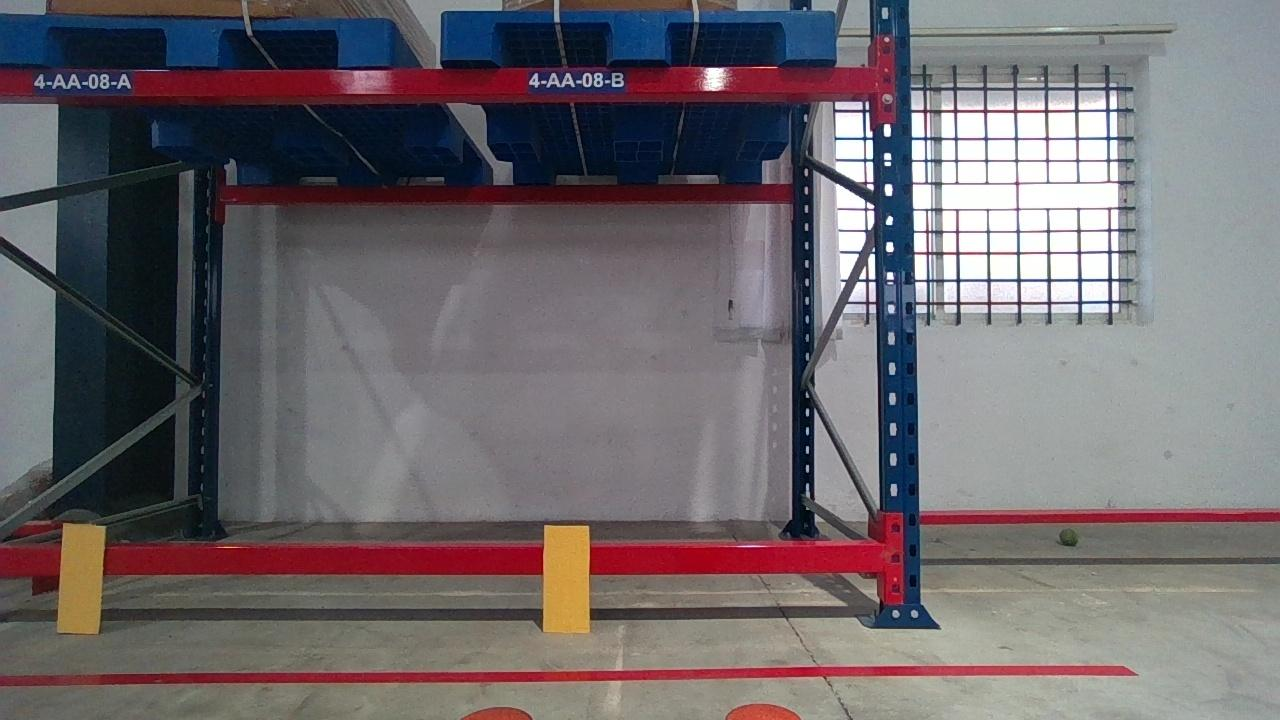h_rack: (1, 542, 885, 578), (1, 62, 879, 96)
orange_strip: (56, 523, 104, 632), (542, 525, 591, 631)
small_pallet: (438, 9, 838, 62), (0, 15, 393, 65)
